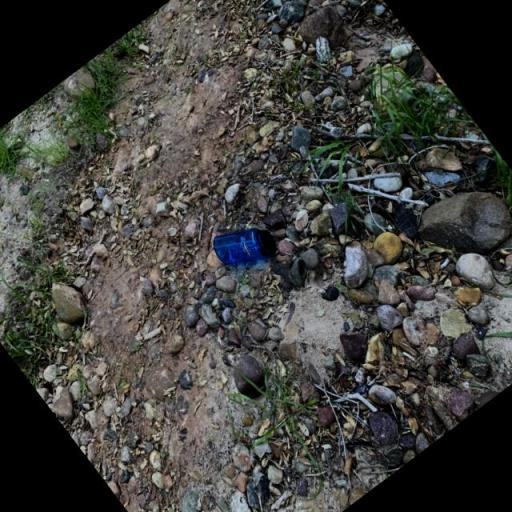bottle: (206, 208, 282, 282)
